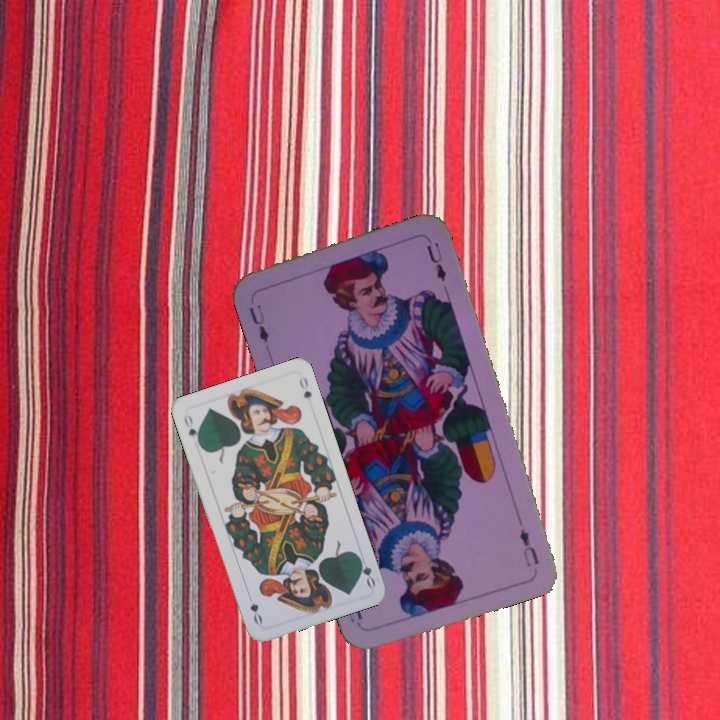EU: (515, 524, 542, 569), (244, 303, 272, 346)
GO: (353, 552, 378, 590), (180, 410, 203, 448)
